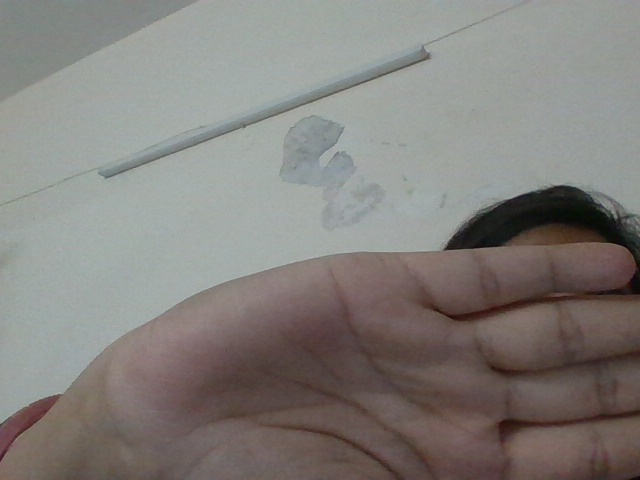rewind: (94, 234, 639, 478)
